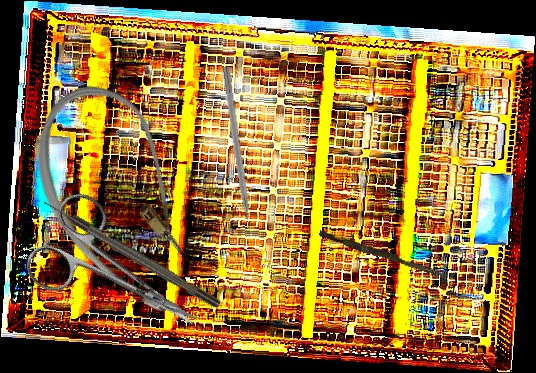Cannula: (2, 65, 242, 333)
Hook Surgical: (41, 196, 222, 311)
Iris Scissors: (16, 185, 223, 369)
Pusher: (317, 230, 451, 279), (219, 66, 255, 242)
